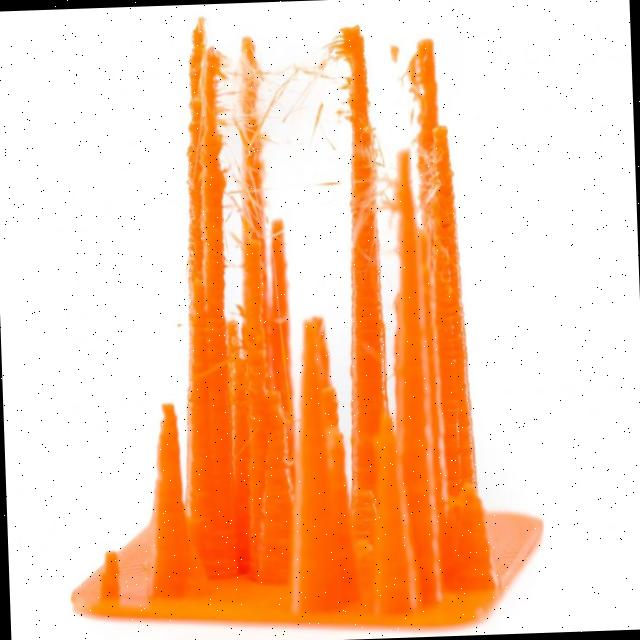stringing: (194, 17, 440, 274)
